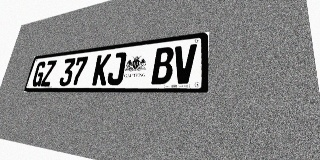3: (58, 58, 76, 86)
7: (70, 56, 88, 86)
B: (151, 46, 174, 84)
G: (31, 61, 47, 87)
J: (106, 52, 127, 85)
K: (91, 54, 111, 85)
V: (172, 44, 197, 84)
Z: (40, 60, 57, 86)
